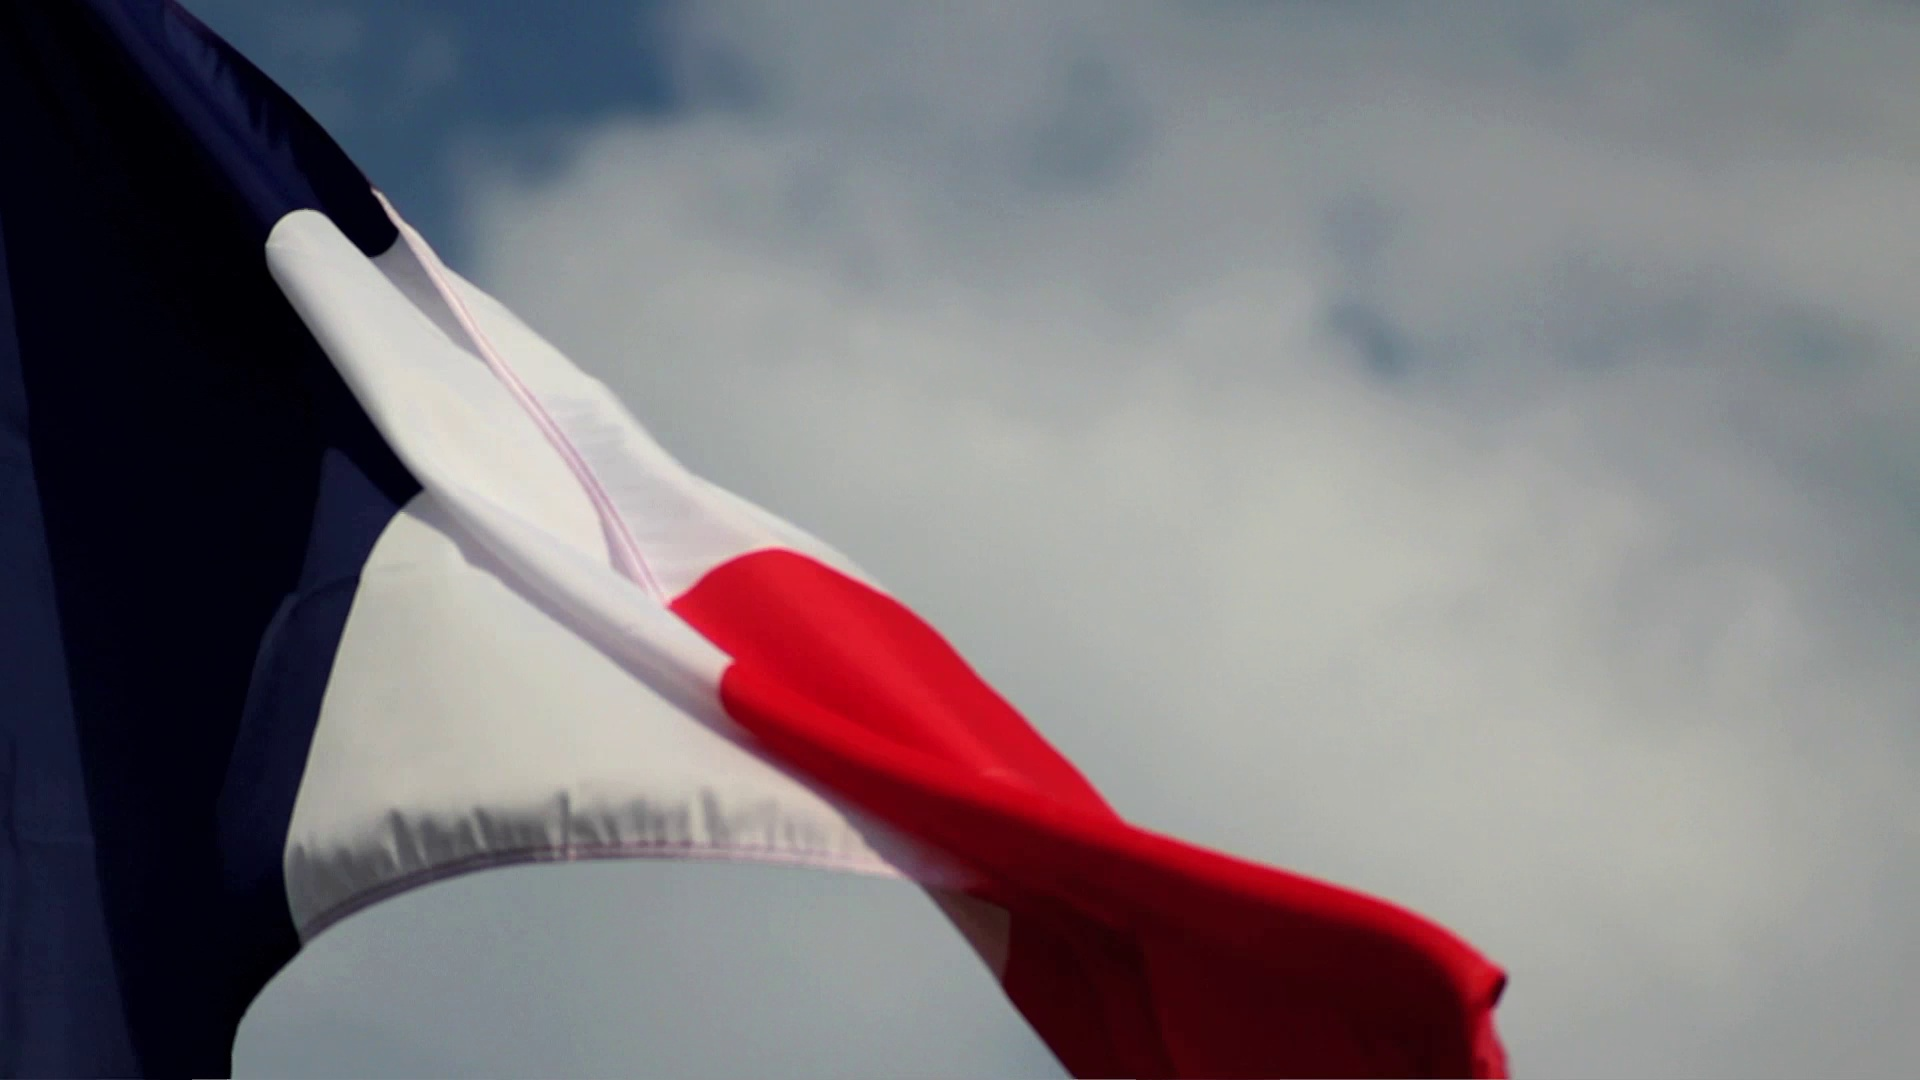French Flag: (1, 1, 1505, 1080)
